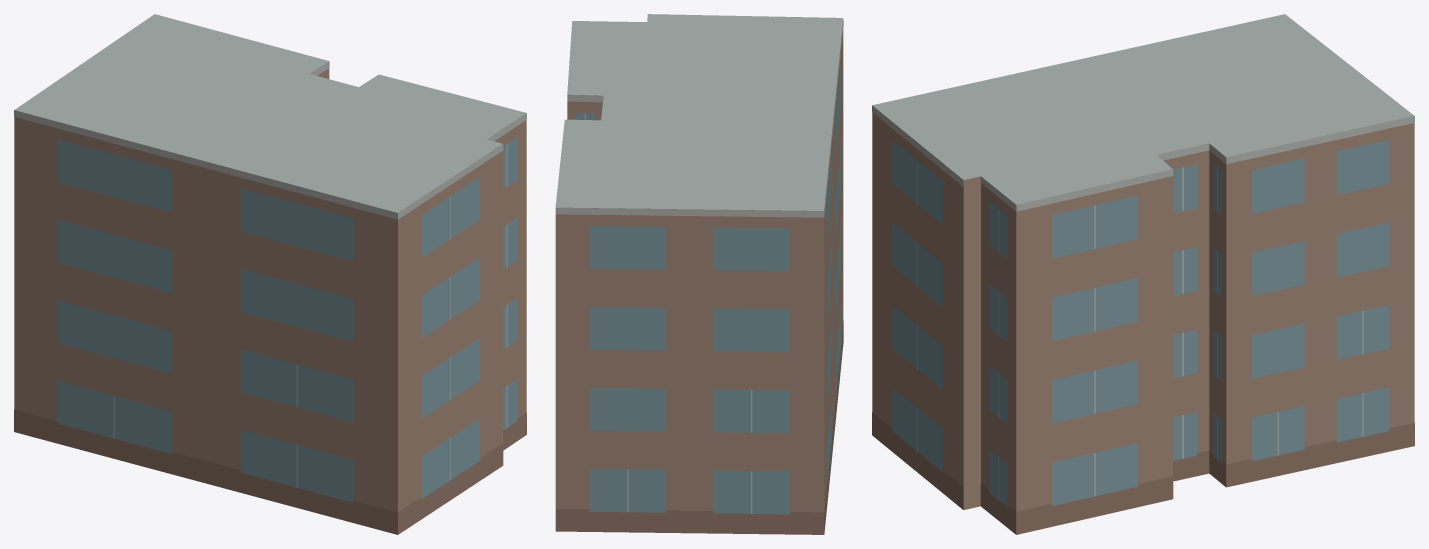
The model's file is survey-upis-32927774.glb.
3 renders of one model, left to right at view 1: azimuth 30°, elevation 25°; view 2: azimuth 150°, elevation 25°; view 3: azimuth 270°, elevation 25°, orthographic. The views are drawn at different scales.
Parts seen in each view (by area): view 1: survey-upis-32927774.tmp; view 2: survey-upis-32927774.tmp; view 3: survey-upis-32927774.tmp.
Boxes of the visible parts, box(x1,y1,x2,y2) form: survey-upis-32927774.tmp: box(14, 14, 526, 534); survey-upis-32927774.tmp: box(555, 14, 843, 534); survey-upis-32927774.tmp: box(872, 14, 1414, 534).
Size of the model in its own units: 14.52 by 11.7 by 17.45.
